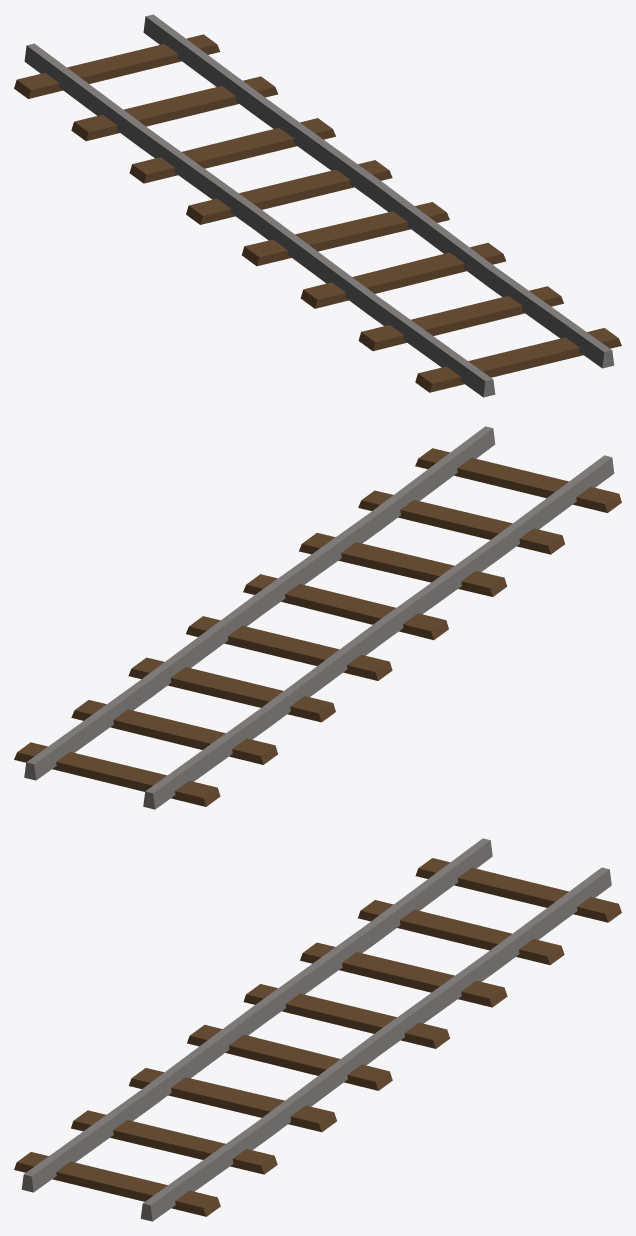
The model's file is western_rail-straight.fbx.
3 views of the same model, one above another, from view 1: azimuth 30°, elevation 25°; view 2: azimuth 150°, elevation 25°; view 3: azimuth 330°, elevation 25° (orthographic).
Parts seen in each view (by area): view 1: western_rail_straight; view 2: western_rail_straight; view 3: western_rail_straight.
Part boxes in pixels (x1,y1,x2,y2): western_rail_straight: (14, 14, 621, 397); western_rail_straight: (14, 426, 621, 809); western_rail_straight: (14, 838, 621, 1221).
Size of the model in its own units: 48.42 by 4.92 by 200.
